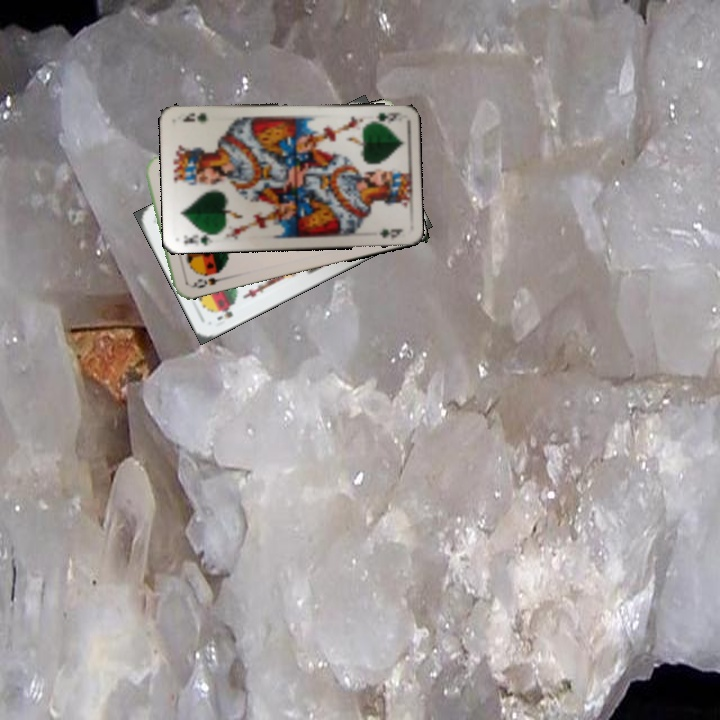GK: (180, 228, 218, 248), (373, 109, 403, 122)
SK: (213, 304, 235, 323)
SO: (187, 273, 227, 291)
